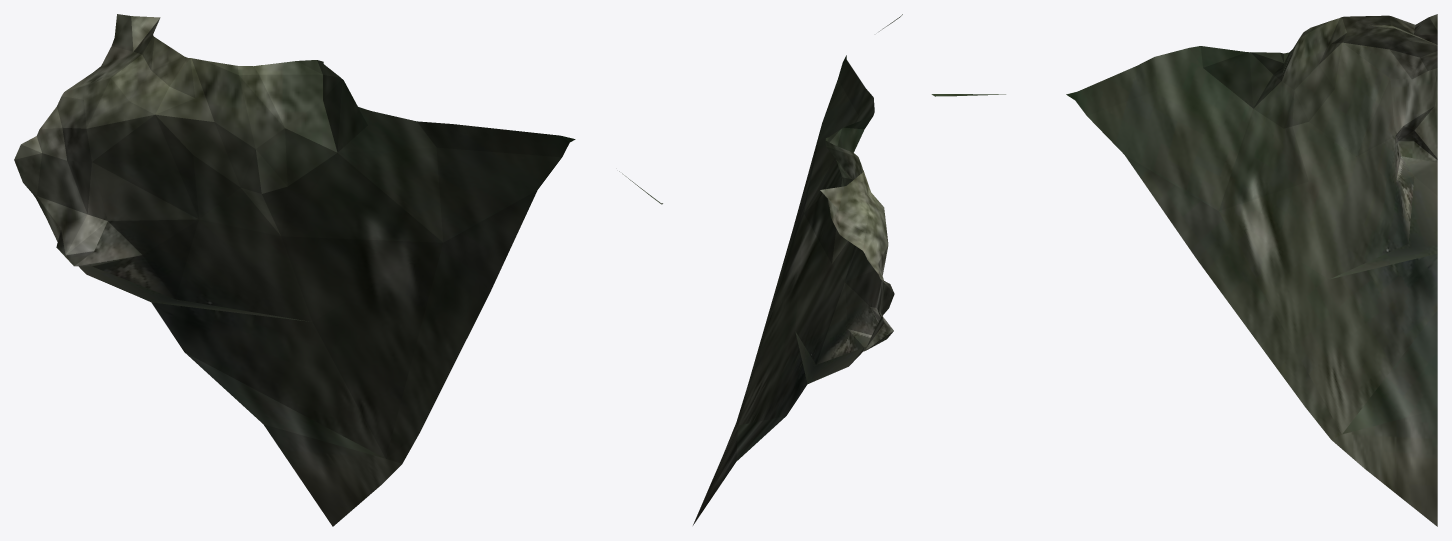
3 views of the same model, side by side, from view 1: azimuth 30°, elevation 25°; view 2: azimuth 150°, elevation 25°; view 3: azimuth 270°, elevation 25° (orthographic). The views are drawn at different scales.
Size of the model in its own units: 1.62 by 2.74 by 2.91.
Materials: 2 (2 with a texture image).
